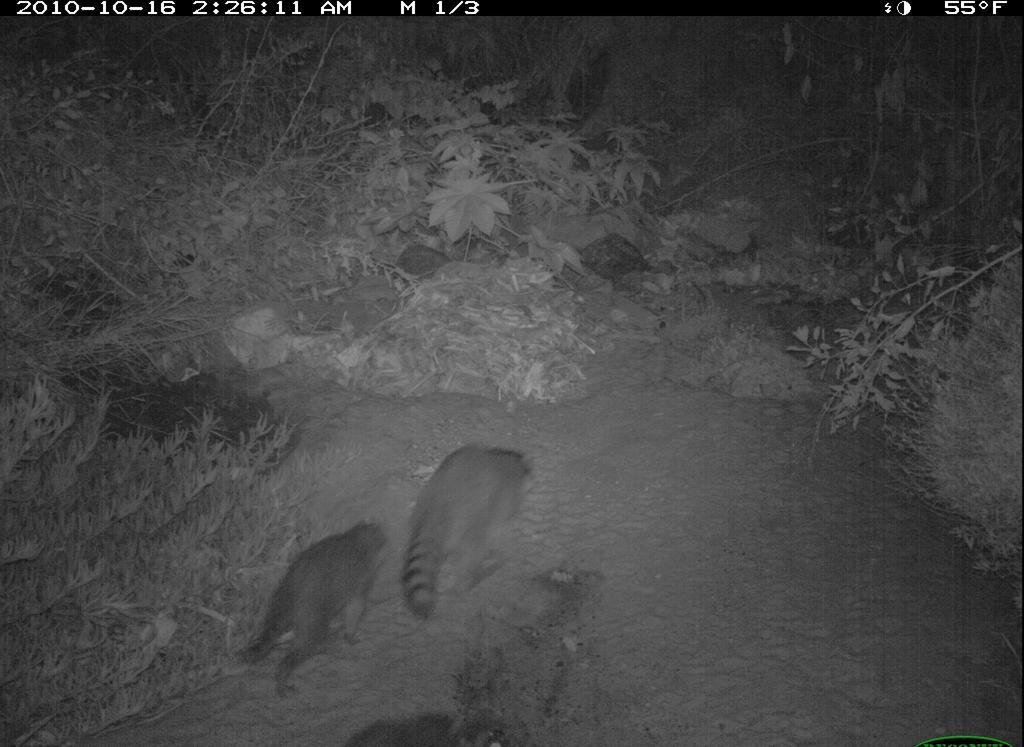raccoon: (395, 413, 543, 625), (239, 518, 386, 698)
